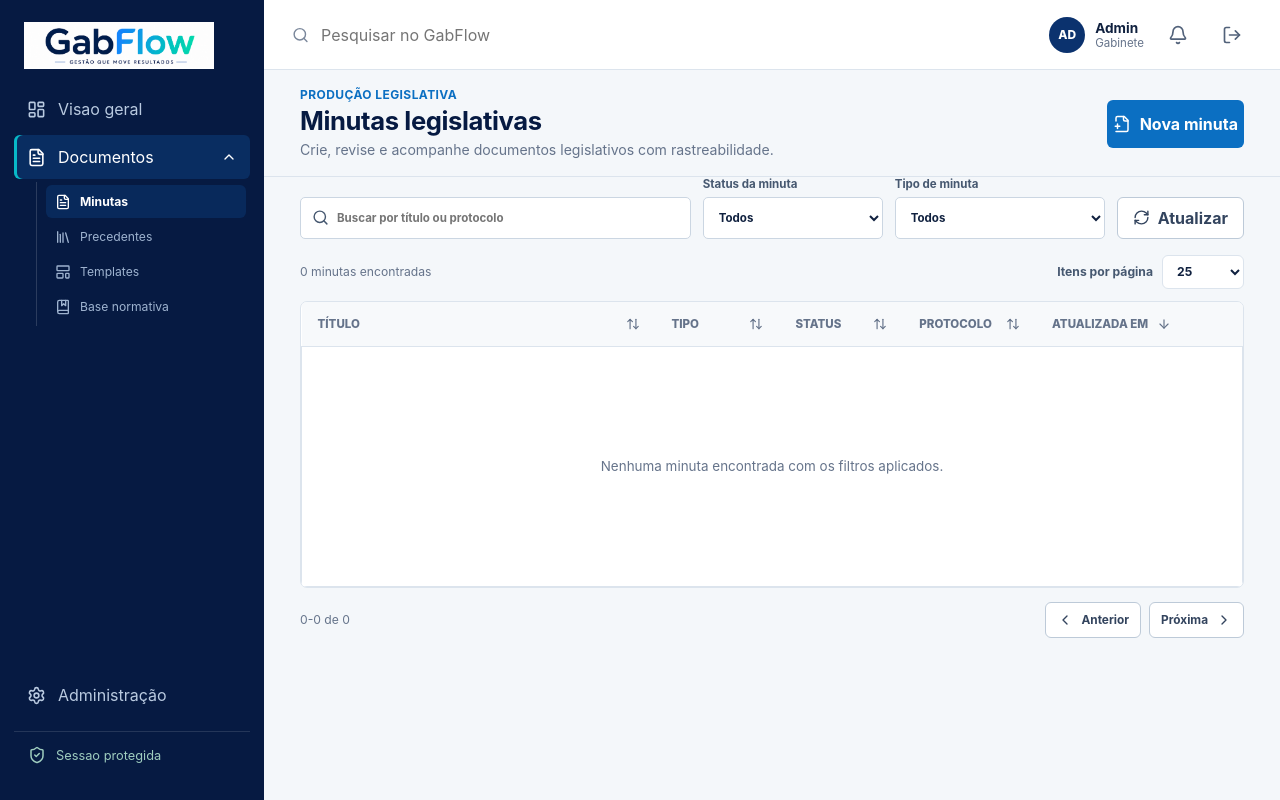
Test: expõe as quatro áreas de Documentos como submenu lateral
The image size is (1280, 800).
Expected: the button "Templates" is shown, [46, 255, 246, 288]
Expected: the button "Base normativa" is shown, [46, 290, 246, 323]
Click the button "Precedentes" at coordinates (146, 237), box [46, 220, 246, 253]
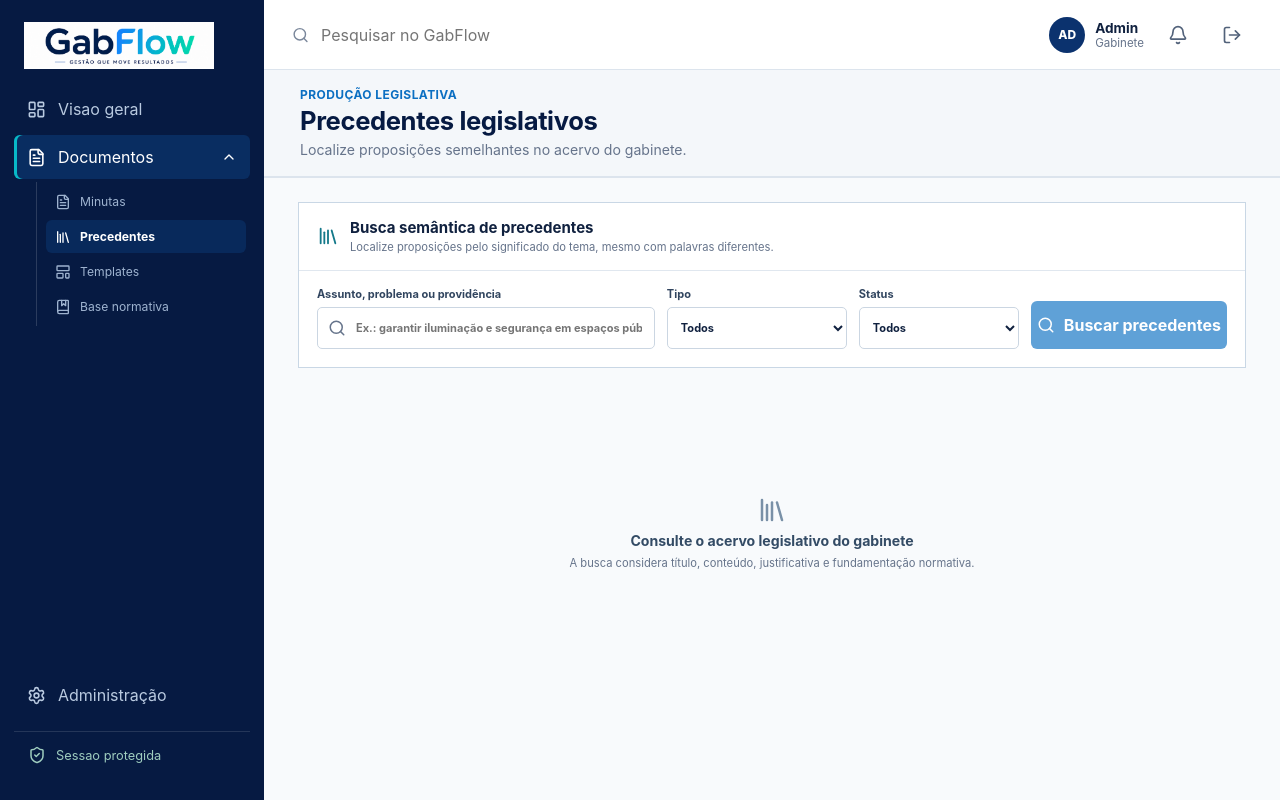
Now the heading "Precedentes legislativos" is shown, box [300, 106, 597, 136]
